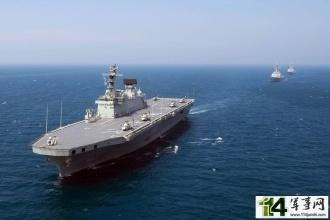warship: (25, 63, 210, 181), (264, 59, 289, 86), (288, 62, 296, 76)
